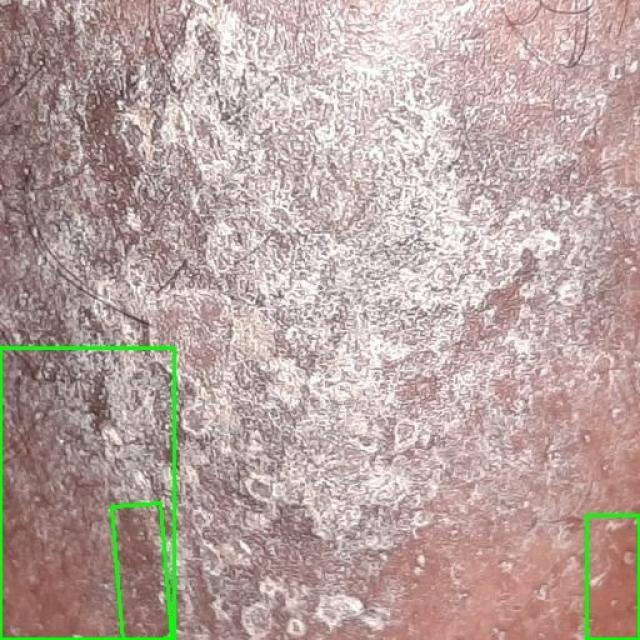Tinea Corporis: (0, 348, 174, 639), (112, 503, 172, 640), (586, 515, 639, 639)
